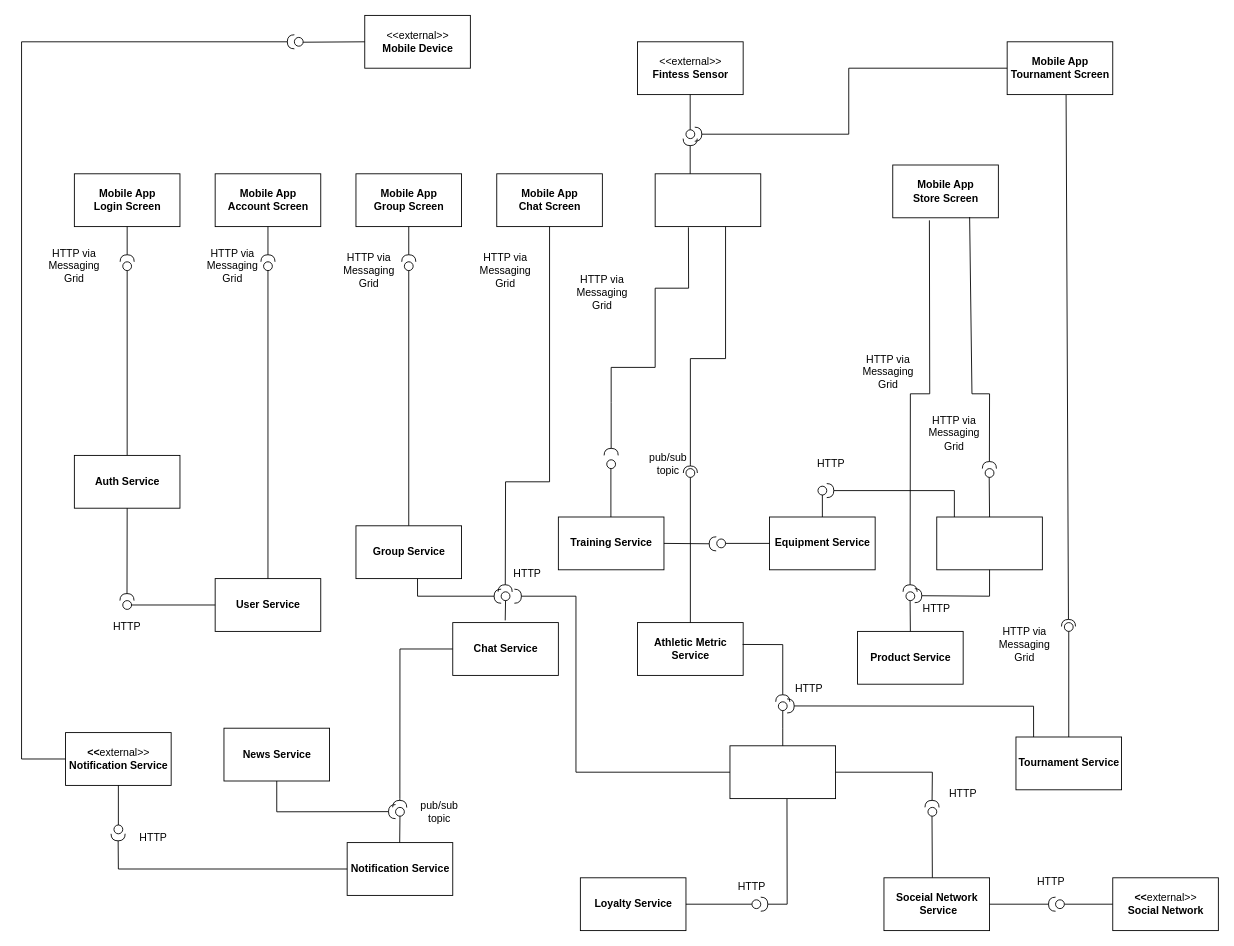
Some shapes in this 1234 by 946 pixel diagram are drawn without their labels. Each missing label, with the centre of its shape:
Achievement Service: the point at 782,772
Mobile App Training Screen: the point at 707,200
Order Service: the point at 989,543
